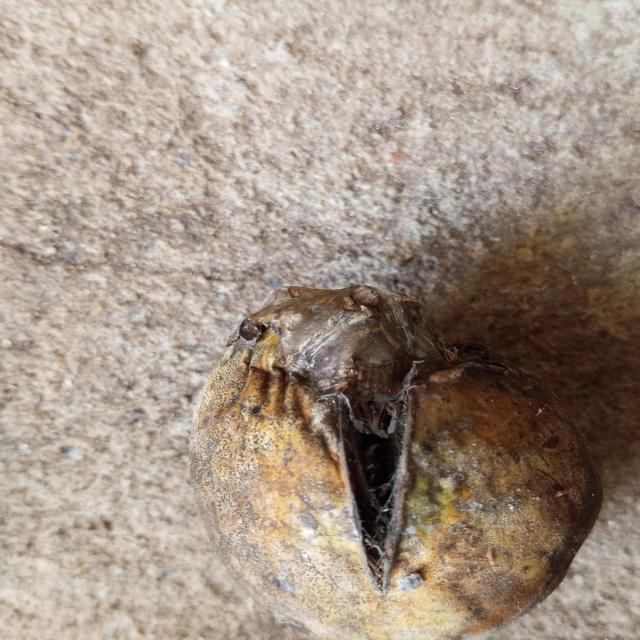damaged: (191, 286, 602, 640)
